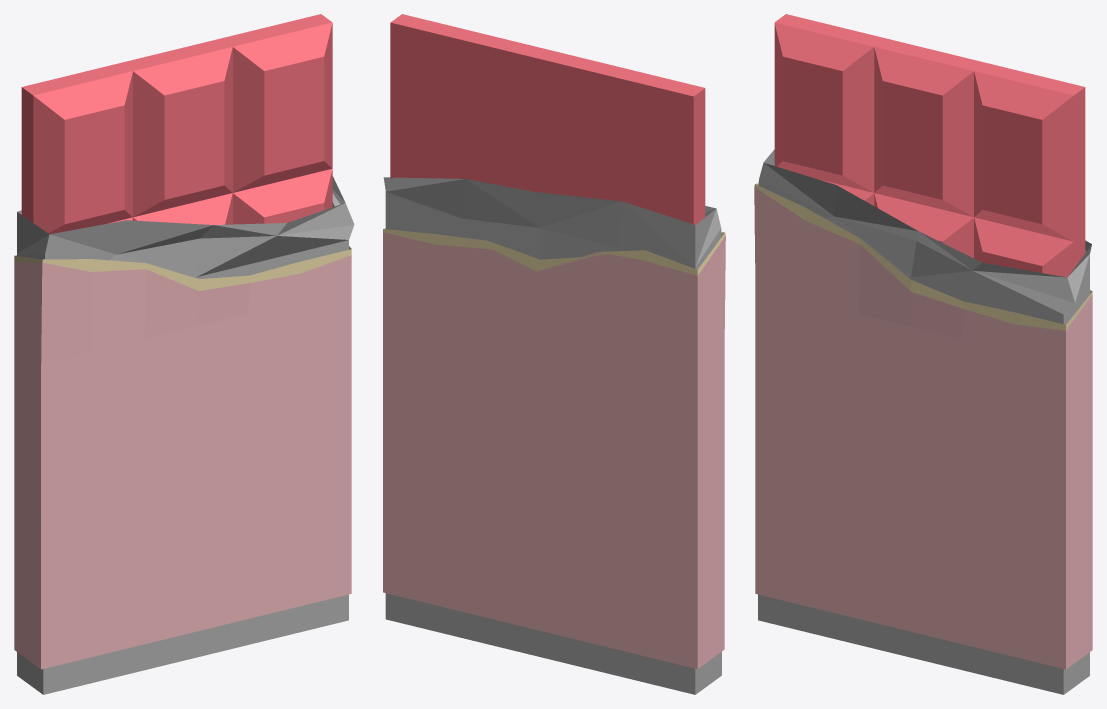
File: chocolate_strawberry.fbx
3 views of the same model, side by side, from view 1: azimuth 30°, elevation 25°; view 2: azimuth 150°, elevation 25°; view 3: azimuth 330°, elevation 25° (orthographic).
Parts seen in each view (by area): view 1: chocolate_strawberry; view 2: chocolate_strawberry; view 3: chocolate_strawberry.
Part boxes in pixels (x1,y1,x2,y2): chocolate_strawberry: [14, 14, 354, 694]; chocolate_strawberry: [383, 14, 725, 694]; chocolate_strawberry: [754, 14, 1092, 694].
Bounding box in the file's own units: 8.84 × 15.72 × 1.85.
